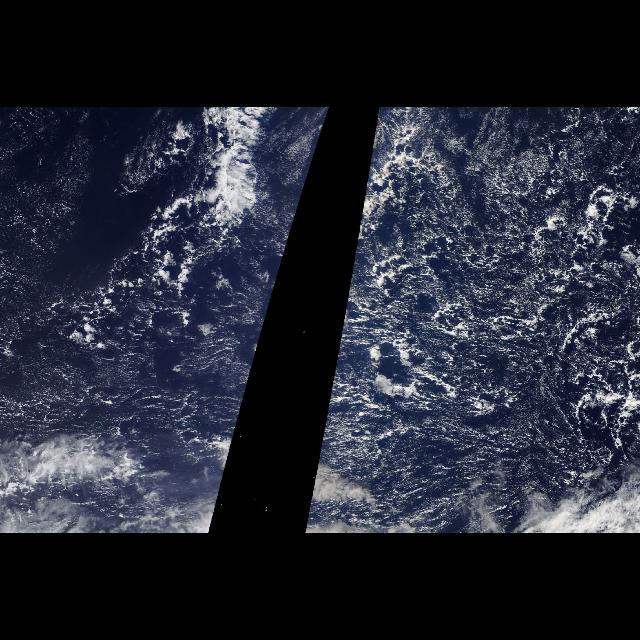Gravel: (348, 197, 630, 449)
